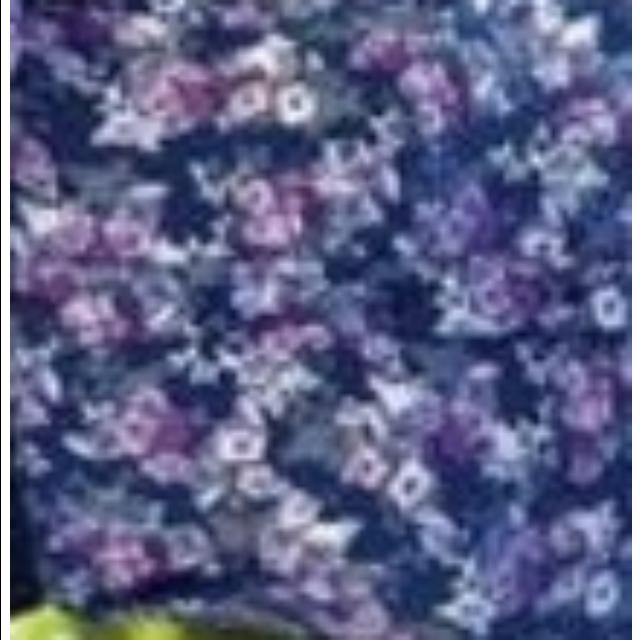cotton: (25, 0, 630, 640)
